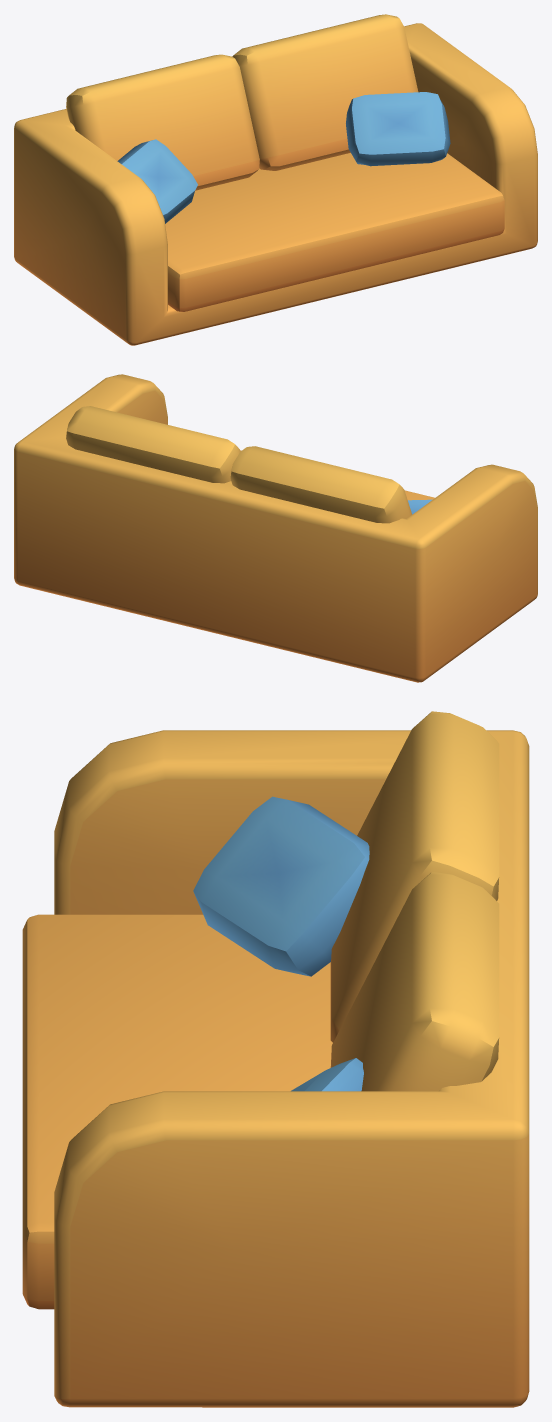
The model's file is cc0-couch-pillows-lod0.glb.
3 views of the same model, one above another, from view 1: azimuth 30°, elevation 25°; view 2: azimuth 150°, elevation 25°; view 3: azimuth 270°, elevation 25° (orthographic). The views are drawn at different scales.
Parts seen in each view (by area): view 1: part_0; view 2: part_0; view 3: part_0.
Part boxes in pixels (left/top/right/bottom): part_0: left=14, top=14, right=537, bottom=345; part_0: left=14, top=374, right=537, bottom=682; part_0: left=22, top=711, right=529, bottom=1407.
Size of the model in its own units: 3 by 1.22 by 1.6.
1 material, 1 textured.
